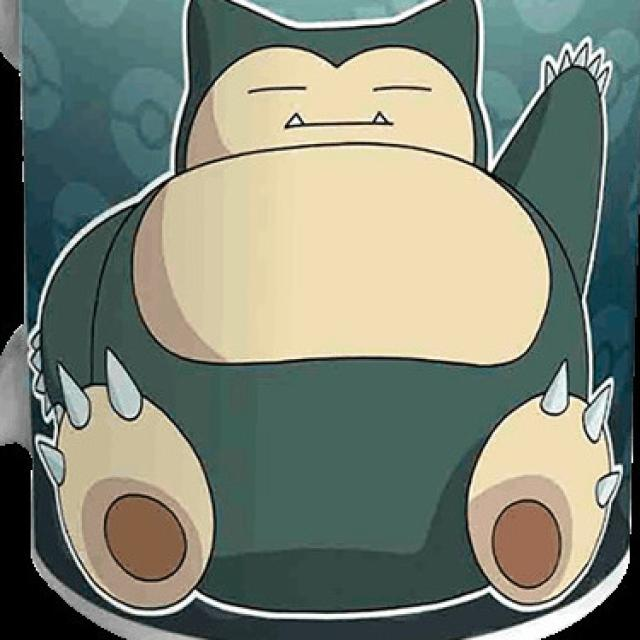Snorlax: (19, 0, 640, 634)
